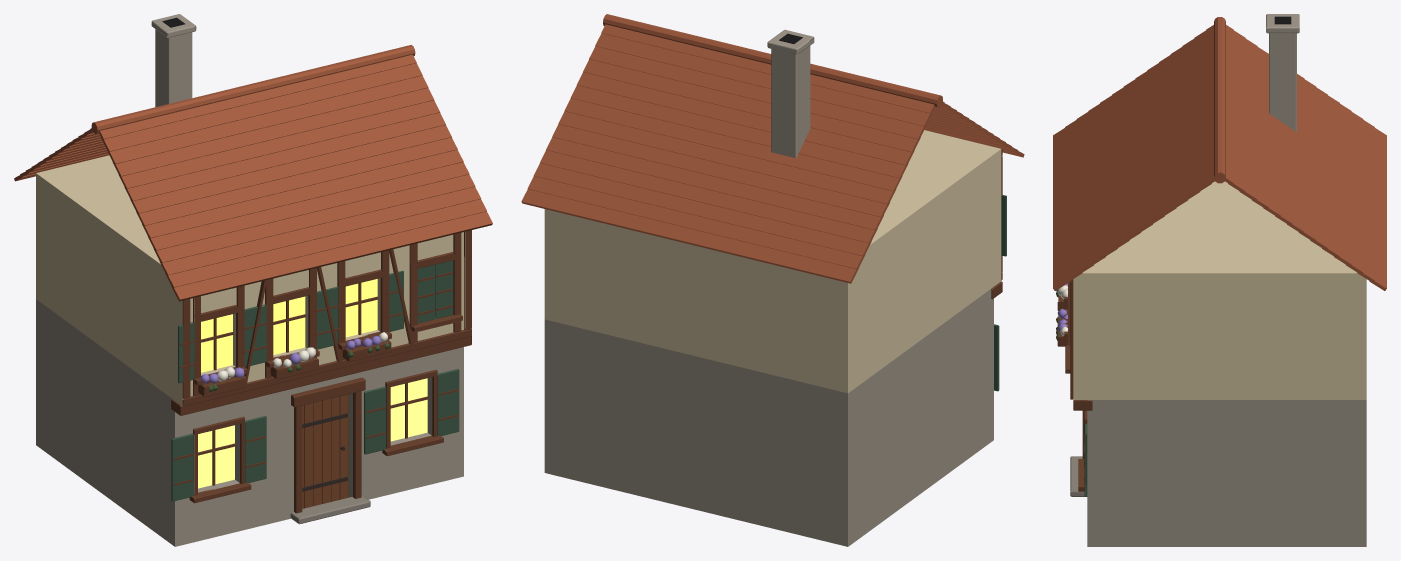
File: casa_6x5_ligero.glb
The picture shows the model from 3 angles, left to right: view 1: azimuth 30°, elevation 25°; view 2: azimuth 150°, elevation 25°; view 3: azimuth 270°, elevation 25°; orthographic projection. The views are drawn at different scales.
Visible parts, largest first — view 1: casa_6x5_pa_dentro, casa_6x5_pb_dentro, casa_6x5_pb.003, casa_6x5_tejado_s_0, casa_6x5_tejado_s_2, casa_6x5_tejado_s_4, casa_6x5_tejado_s_7, casa_6x5_tejado_s_1, casa_6x5_tejado_s_9, casa_6x5_tejado_s_10, casa_6x5_tejado_s_11, casa_6x5_tejado_s_8 (+63 smaller); view 2: casa_6x5_pb_dentro, casa_6x5_pa_dentro, casa_6x5_tejado_n_0, casa_6x5_tejado_n_2, casa_6x5_tejado_n_3, casa_6x5_tejado_n_1, casa_6x5_tejado_n_5, casa_6x5_tejado_n_6, casa_6x5_tejado_n_4, casa_6x5_tejado_n_7, casa_6x5_tejado_n_8, casa_6x5_tejado_n_9 (+9 smaller); view 3: casa_6x5_pa_dentro, casa_6x5_pb_dentro, casa_6x5_chimenea0, casa_6x5_pb.008, casa_6x5_tejado_n_6, casa_6x5_tejado_s_7, casa_6x5_tejado_s_2, casa_6x5_tejado_s_6, casa_6x5_tejado_s_11, casa_6x5_tejado_n_2, casa_6x5_tejado_n_11, casa_6x5_tejado_s_10 (+25 smaller).
Part boxes in pixels (x1=…): casa_6x5_pa_dentro: x1=36, y1=155, x2=174, y2=400; casa_6x5_pb_dentro: x1=36, y1=299, x2=166, y2=540; casa_6x5_pb.003: x1=235, y1=387, x2=300, y2=530; casa_6x5_tejado_s_0: x1=171, y1=211, x2=492, y2=301; casa_6x5_tejado_s_2: x1=159, y1=187, x2=481, y2=276; casa_6x5_tejado_s_4: x1=148, y1=162, x2=469, y2=251; casa_6x5_tejado_s_7: x1=130, y1=125, x2=451, y2=213; casa_6x5_tejado_s_1: x1=165, y1=199, x2=486, y2=287; casa_6x5_tejado_s_9: x1=118, y1=100, x2=440, y2=189; casa_6x5_tejado_s_10: x1=112, y1=88, x2=434, y2=176; casa_6x5_tejado_s_11: x1=107, y1=75, x2=428, y2=165; casa_6x5_tejado_s_8: x1=124, y1=112, x2=445, y2=201; casa_6x5_pb_dentro: x1=544, y1=293, x2=985, y2=546; casa_6x5_pa_dentro: x1=544, y1=136, x2=993, y2=393; casa_6x5_tejado_n_0: x1=521, y1=189, x2=859, y2=283; casa_6x5_tejado_n_2: x1=533, y1=163, x2=871, y2=257; casa_6x5_tejado_n_3: x1=540, y1=150, x2=877, y2=244; casa_6x5_tejado_n_1: x1=527, y1=176, x2=865, y2=269; casa_6x5_tejado_n_5: x1=552, y1=124, x2=889, y2=217; casa_6x5_tejado_n_6: x1=558, y1=111, x2=896, y2=204; casa_6x5_tejado_n_4: x1=546, y1=137, x2=883, y2=230; casa_6x5_tejado_n_7: x1=564, y1=98, x2=902, y2=191; casa_6x5_tejado_n_8: x1=570, y1=85, x2=908, y2=178; casa_6x5_tejado_n_9: x1=577, y1=72, x2=914, y2=165; casa_6x5_pa_dentro: x1=1087, y1=181, x2=1366, y2=399; casa_6x5_pb_dentro: x1=1104, y1=400, x2=1366, y2=546; casa_6x5_chimenea0: x1=1269, y1=33, x2=1296, y2=131; casa_6x5_pb.008: x1=1087, y1=400, x2=1103, y2=546; casa_6x5_tejado_n_6: x1=1298, y1=79, x2=1316, y2=241; casa_6x5_tejado_s_7: x1=1135, y1=71, x2=1152, y2=233; casa_6x5_tejado_s_2: x1=1076, y1=112, x2=1093, y2=274; casa_6x5_tejado_s_6: x1=1123, y1=79, x2=1141, y2=241; casa_6x5_tejado_s_11: x1=1182, y1=39, x2=1200, y2=201; casa_6x5_tejado_n_2: x1=1346, y1=112, x2=1363, y2=274; casa_6x5_tejado_n_11: x1=1239, y1=39, x2=1257, y2=200; casa_6x5_tejado_s_10: x1=1170, y1=47, x2=1187, y2=209.
Size of the model in its own units: 6.6 by 8.53 by 5.97.
